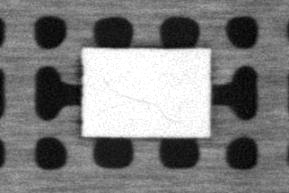DIE_CRACK: (107, 87, 182, 124)
